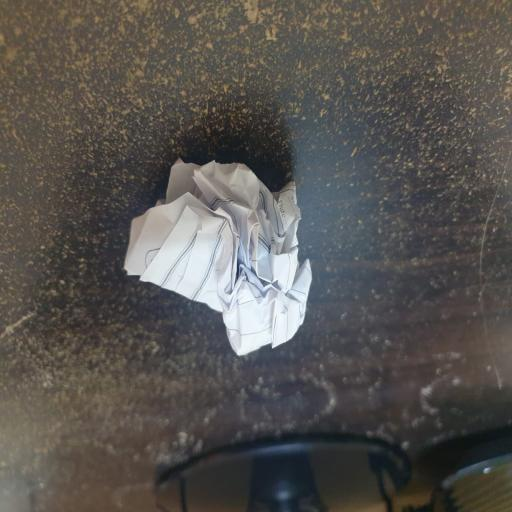Kertas: (121, 154, 313, 360)
